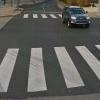Crosswalk: (6, 42, 99, 100)
